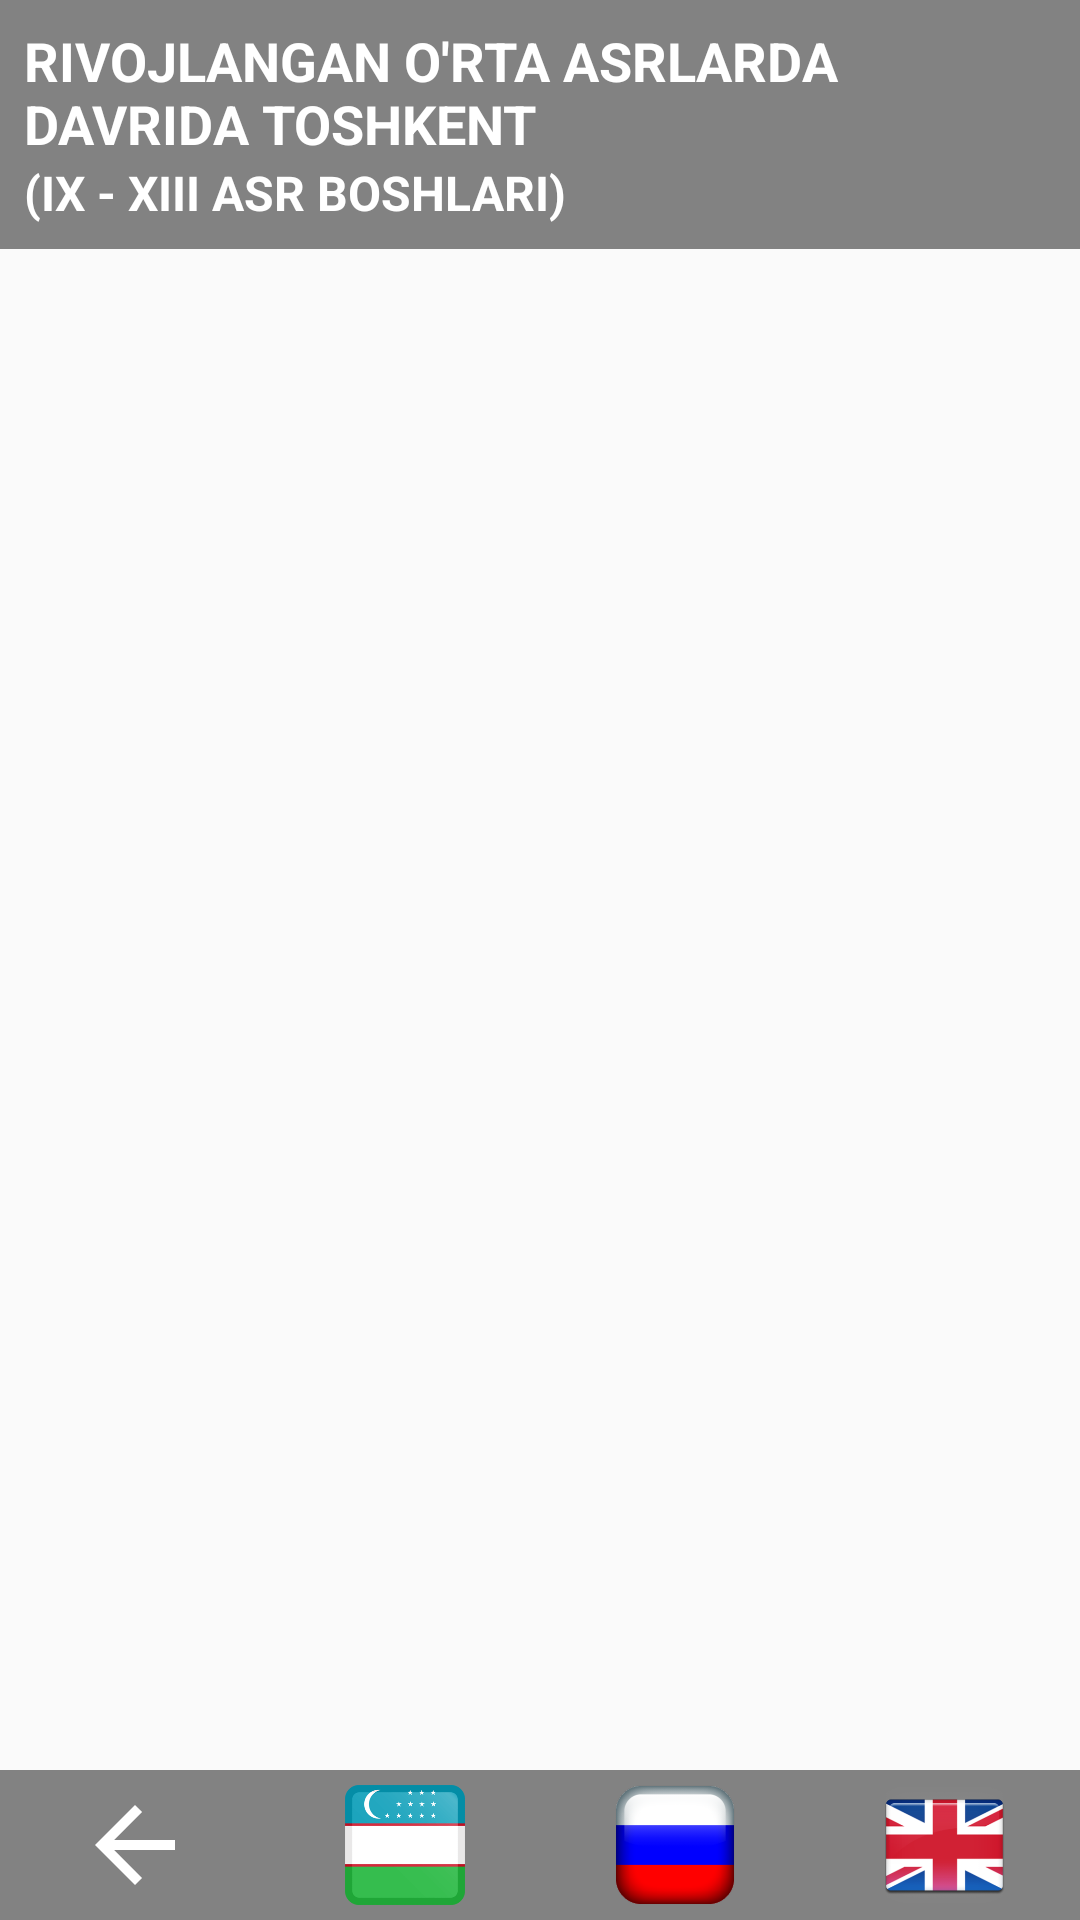

Where to tap for icons on this 1080x1920 app screen, as (x,y):
bottom back: (135,1845)
bottom en: (944,1846)
bottom ru: (675,1845)
bottom uz: (405,1845)
